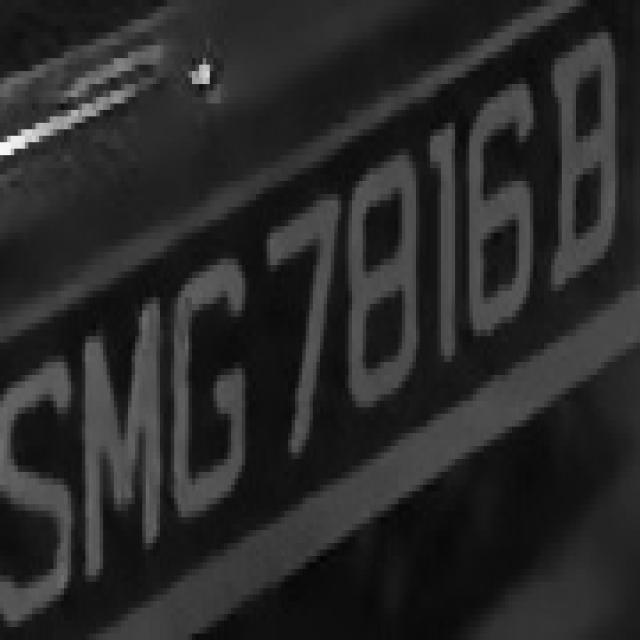1: (409, 123, 473, 394)
6: (459, 84, 533, 356)
7: (256, 174, 345, 485)
8: (331, 155, 430, 420)
B: (548, 19, 630, 284)
G: (160, 233, 263, 517)
M: (78, 265, 174, 569)
S: (7, 310, 82, 621)
